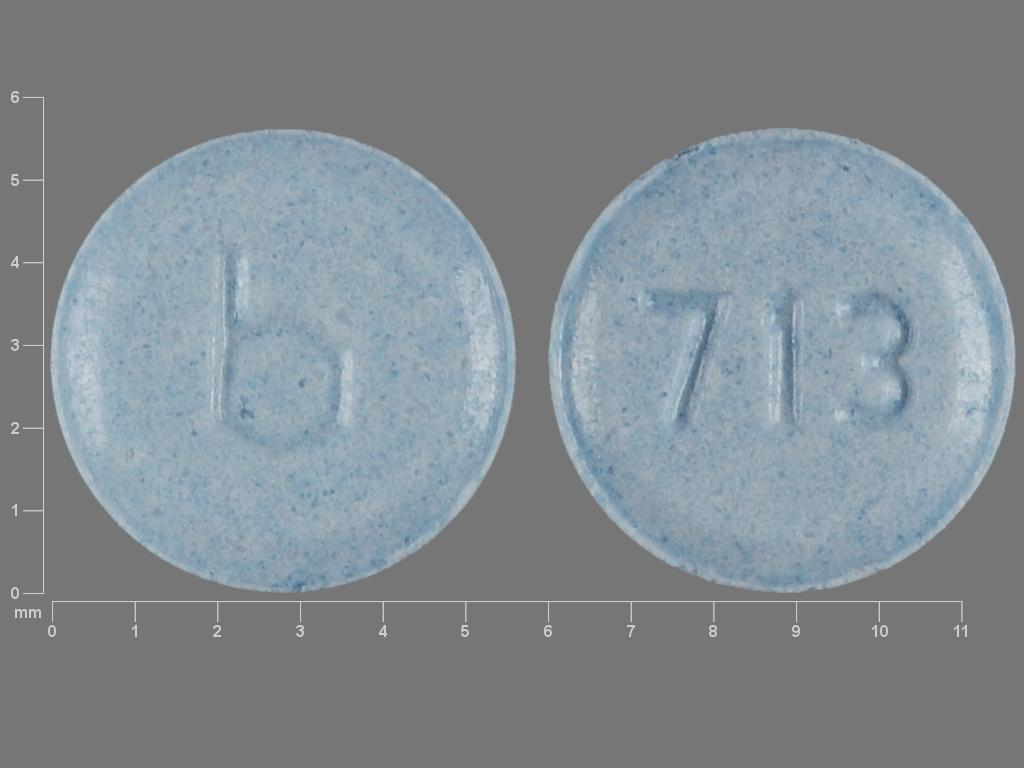Pill: (533, 119, 1023, 597), (49, 120, 527, 600)
